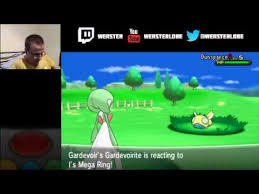gardevoir: (80, 90, 118, 173)
